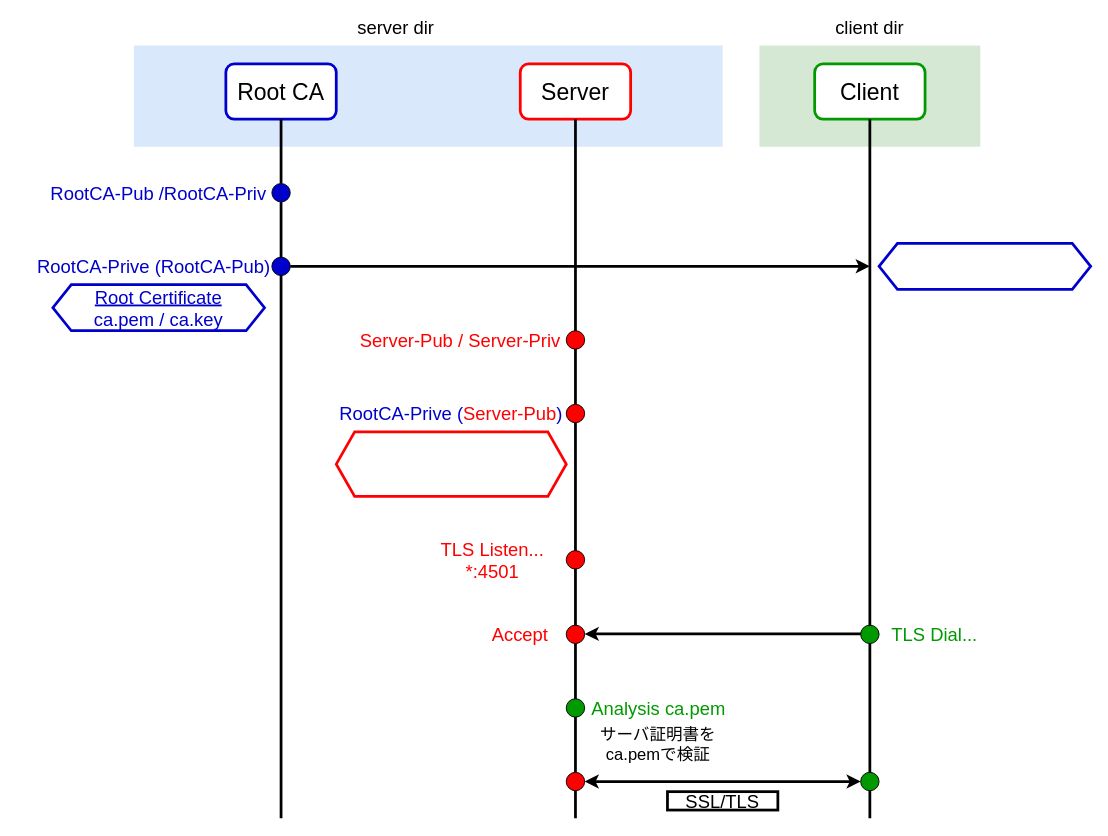
Some shapes in this 1108 by 836 pixel diagram are drawn without their labels. Each missing label, with the box of its shape:
Root Certificate ca.pem: (877, 242, 1092, 290)
Server Certificate server.local.pem server.local.key: (334, 430, 567, 497)
